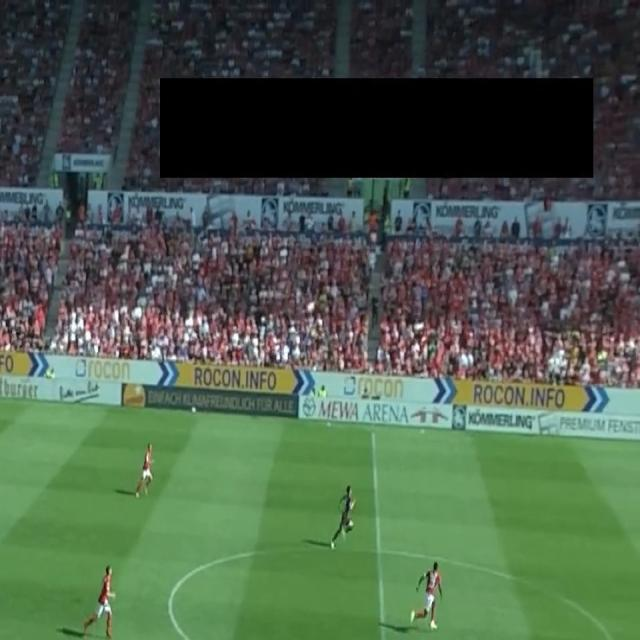ball: (307, 300, 315, 313)
